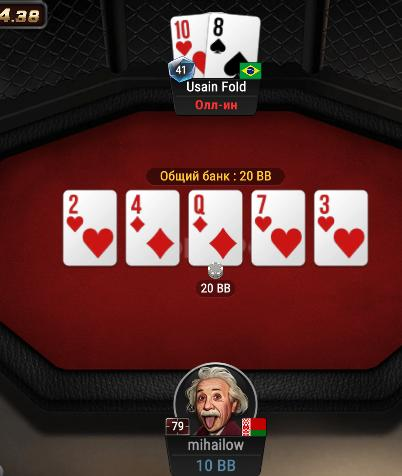10h: (169, 13, 207, 79)
2h: (63, 189, 118, 267)
3h: (315, 192, 368, 265)
4d: (125, 189, 179, 265)
7h: (251, 189, 303, 265)
8s: (206, 11, 261, 82)
Qd: (190, 190, 241, 266)
